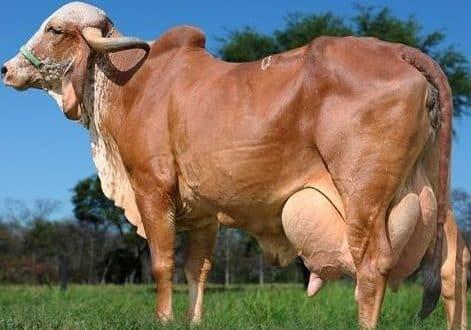cow: (3, 2, 468, 329)
